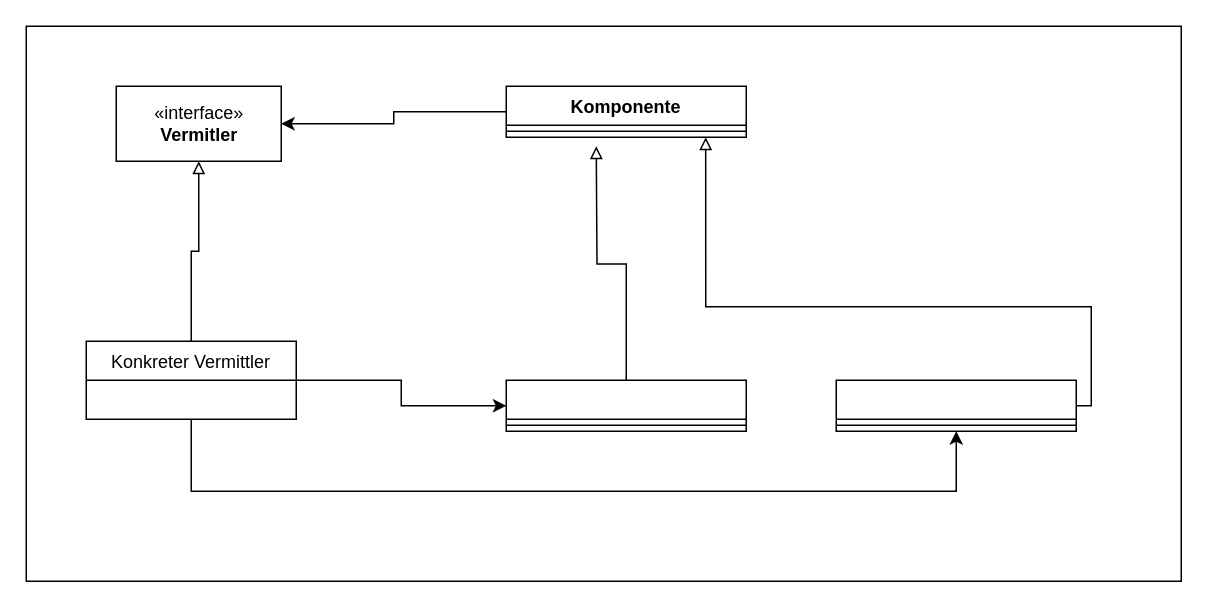
This 1208x608 diagram has some shape labels left out. The shapes that lost their labels are listed below. From the top down, each one's box as (x1, y1, x2, y2) in pixels, then its label:
(505, 379, 746, 431): KonkreteKomponenteA
(835, 379, 1076, 431): KonkreteKomponenteB
